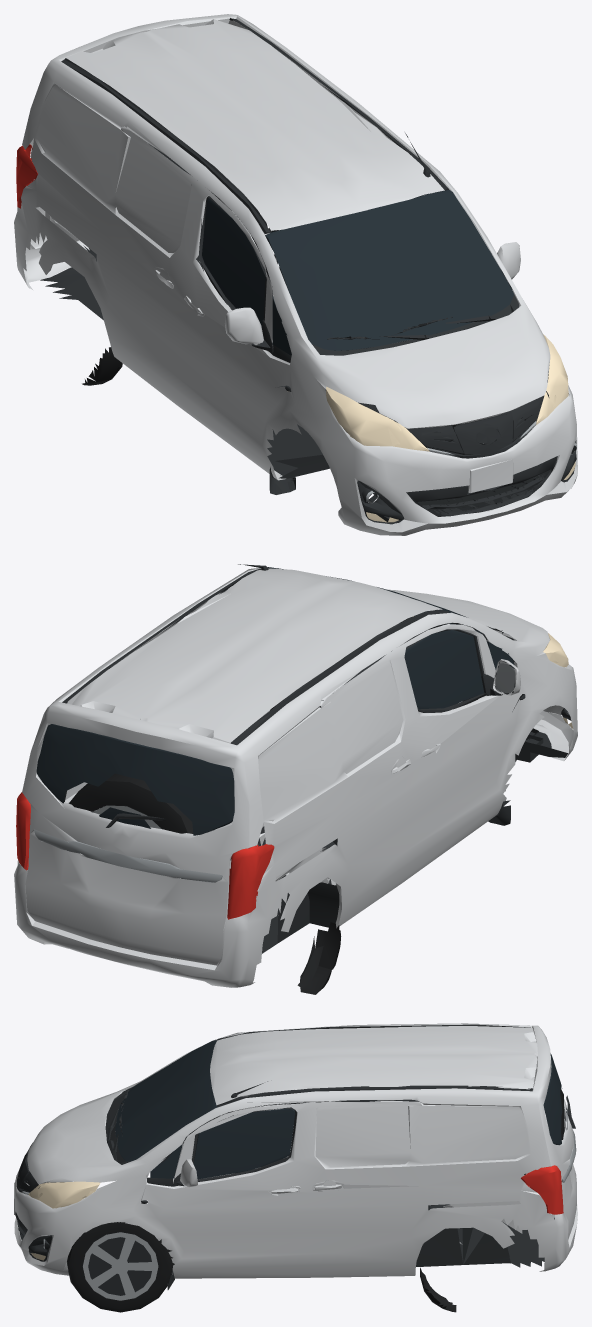
The model's file is compact-van.glb.
3 renders of one model, top to bottom at view 1: azimuth 30°, elevation 25°; view 2: azimuth 150°, elevation 25°; view 3: azimuth 270°, elevation 25°, orthographic. The views are drawn at different scales.
Visible parts, largest first — view 1: Car body, Car glazing, Car trim, Car headlamps, Car tail lamps, Car tyres; view 2: Car body, Car glazing, Car trim, Car tyres, Car tail lamps, Car wheel discs; view 3: Car body, Car glazing, Car trim, Wheel tyre, Wheel rim, Wheel well, Car headlamps, Car tail lamps, Car tyres.
Part boxes in pixels (bbox=[...]): Car body: bbox=[14, 14, 577, 535]; Car glazing: bbox=[96, 77, 513, 355]; Car trim: bbox=[40, 18, 576, 524]; Car headlamps: bbox=[326, 334, 575, 522]; Car tail lamps: bbox=[16, 144, 37, 208]; Car tyres: bbox=[82, 82, 122, 385]; Car body: bbox=[14, 568, 577, 987]; Car glazing: bbox=[36, 567, 514, 835]; Car trim: bbox=[62, 564, 571, 953]; Car tyres: bbox=[69, 773, 341, 994]; Car tail lamps: bbox=[16, 792, 274, 919]; Car wheel discs: bbox=[34, 624, 568, 882]; Car body: bbox=[14, 1023, 577, 1278]; Car glazing: bbox=[115, 1040, 567, 1179]; Car trim: bbox=[15, 1024, 575, 1289]; Wheel tyre: bbox=[67, 1222, 174, 1312]; Wheel rim: bbox=[83, 1232, 158, 1300]; Wheel well: bbox=[86, 1232, 153, 1295]; Car headlamps: bbox=[28, 1181, 100, 1260]; Car tail lamps: bbox=[521, 1165, 563, 1214]; Car tyres: bbox=[420, 1088, 563, 1312].
Size of the model in its own units: 2.02 by 1.93 by 4.46.
